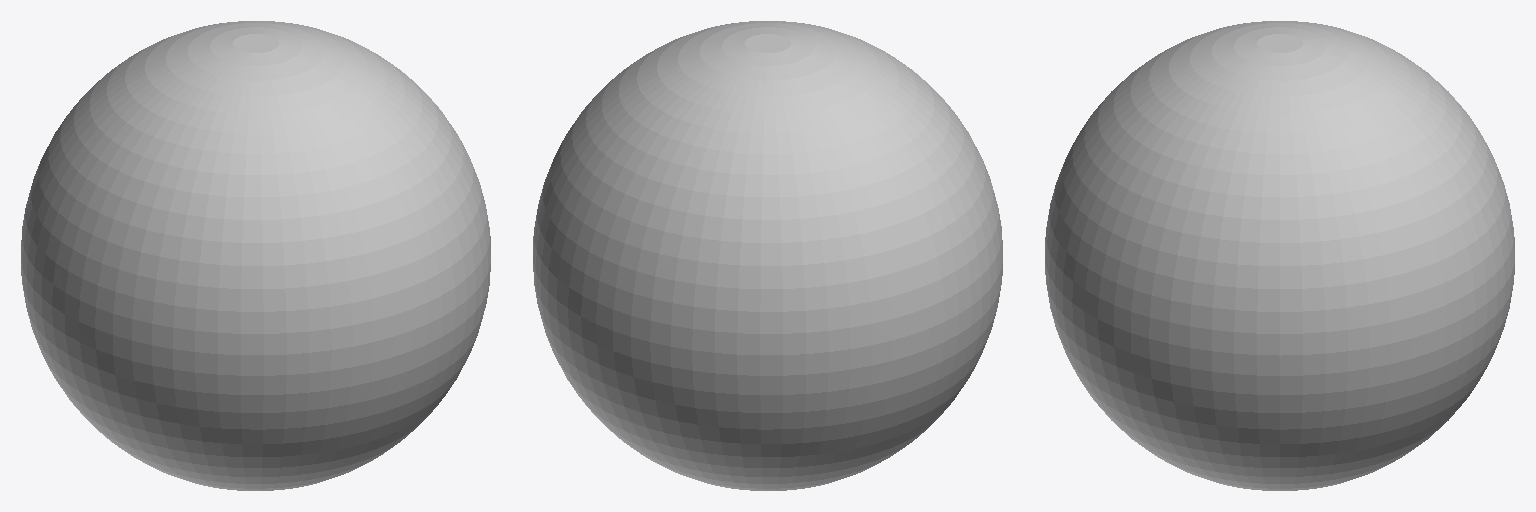
The model's file is ball6.obj.
3 renders of one model, left to right at view 1: azimuth 30°, elevation 25°; view 2: azimuth 150°, elevation 25°; view 3: azimuth 270°, elevation 25°, orthographic.
Visible parts, largest first — view 1: planet_Sphere.009; view 2: planet_Sphere.009; view 3: planet_Sphere.009.
Boxes of the visible parts, box(x1,y1,x2,y2) form: planet_Sphere.009: box(21, 21, 490, 490); planet_Sphere.009: box(533, 21, 1002, 490); planet_Sphere.009: box(1045, 21, 1514, 490).
Bounding box in the file's own units: 0.2214 × 0.2204 × 0.2214.